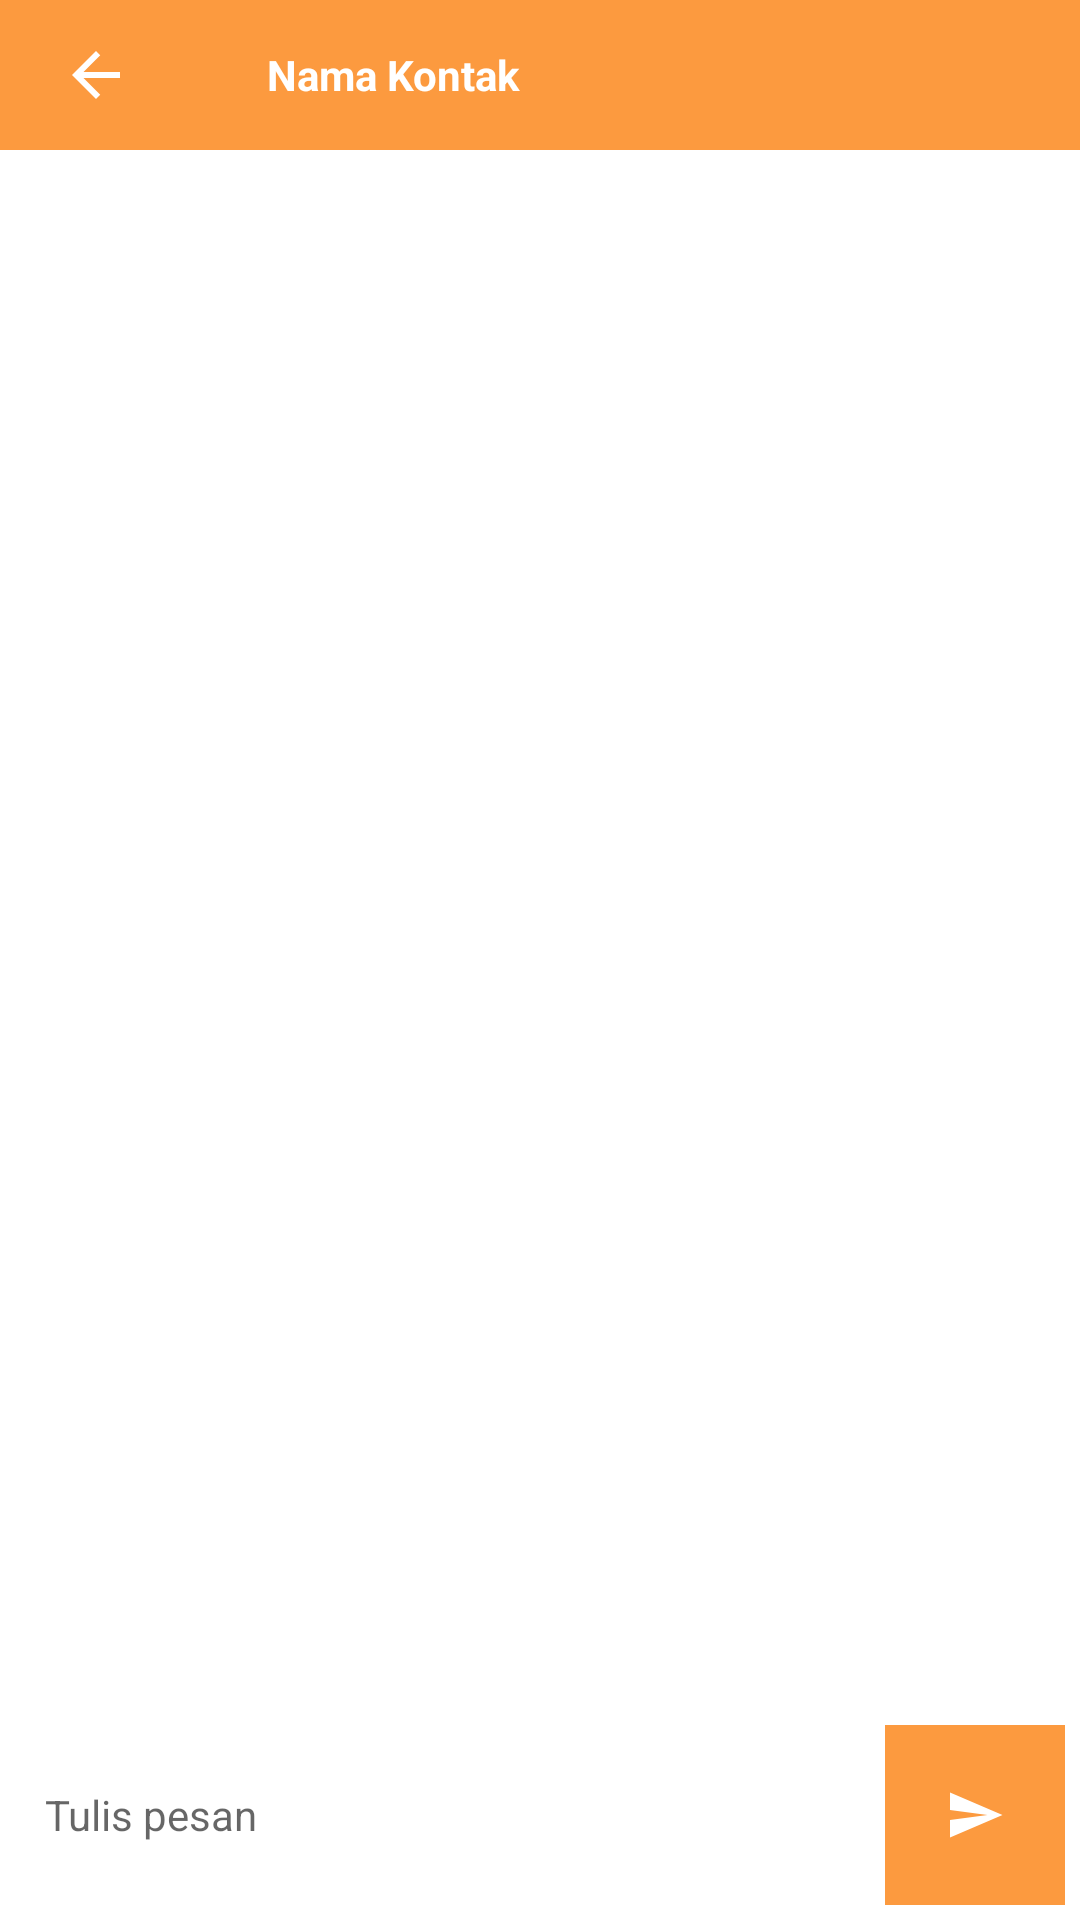

Icon click points for this 1080 x 1920 phone screenshot, format (x,y):
arrow back: (96,75)
send: (976,1815)
